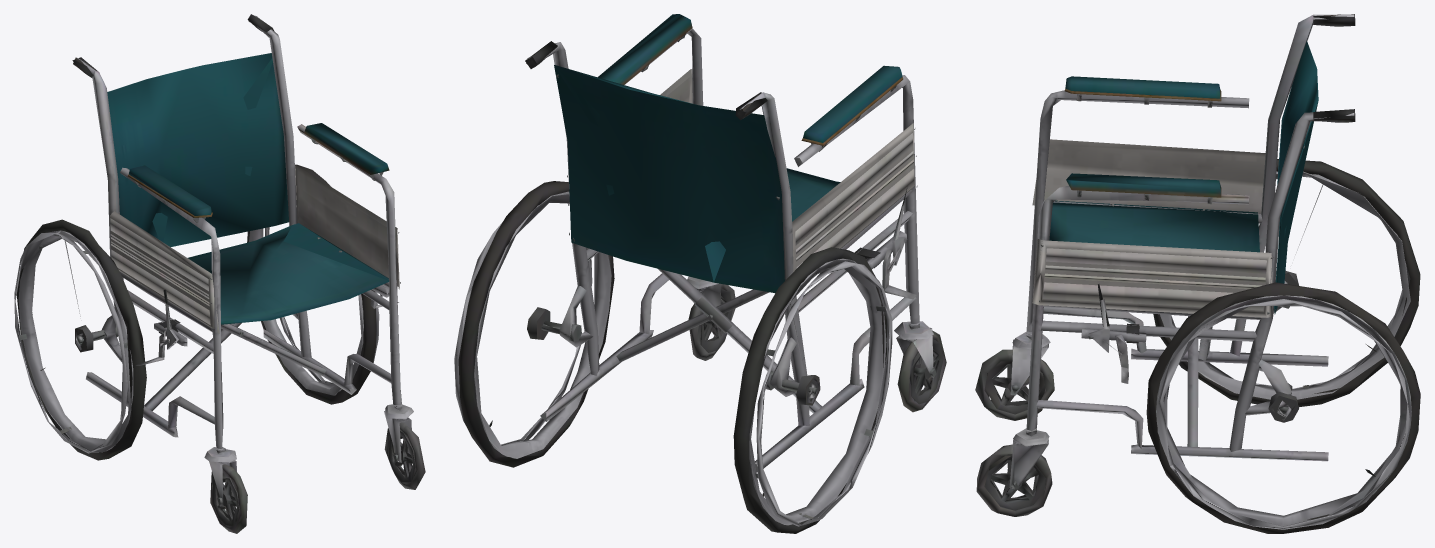
Rendered from wheelchair_01_1k_lo.glb.
3 renders of one model, left to right at view 1: azimuth 30°, elevation 25°; view 2: azimuth 150°, elevation 25°; view 3: azimuth 270°, elevation 25°, orthographic. The views are drawn at different scales.
Visible parts, largest first — view 1: wheelchair_01; view 2: wheelchair_01; view 3: wheelchair_01.
Boxes of the visible parts, left/top/right/bottom form: wheelchair_01: left=14, top=14, right=425, bottom=533; wheelchair_01: left=454, top=14, right=946, bottom=533; wheelchair_01: left=975, top=14, right=1420, bottom=533.
Bounding box in the file's own units: 0.8241 × 1.1 × 1.09.
1 material, 1 textured.
